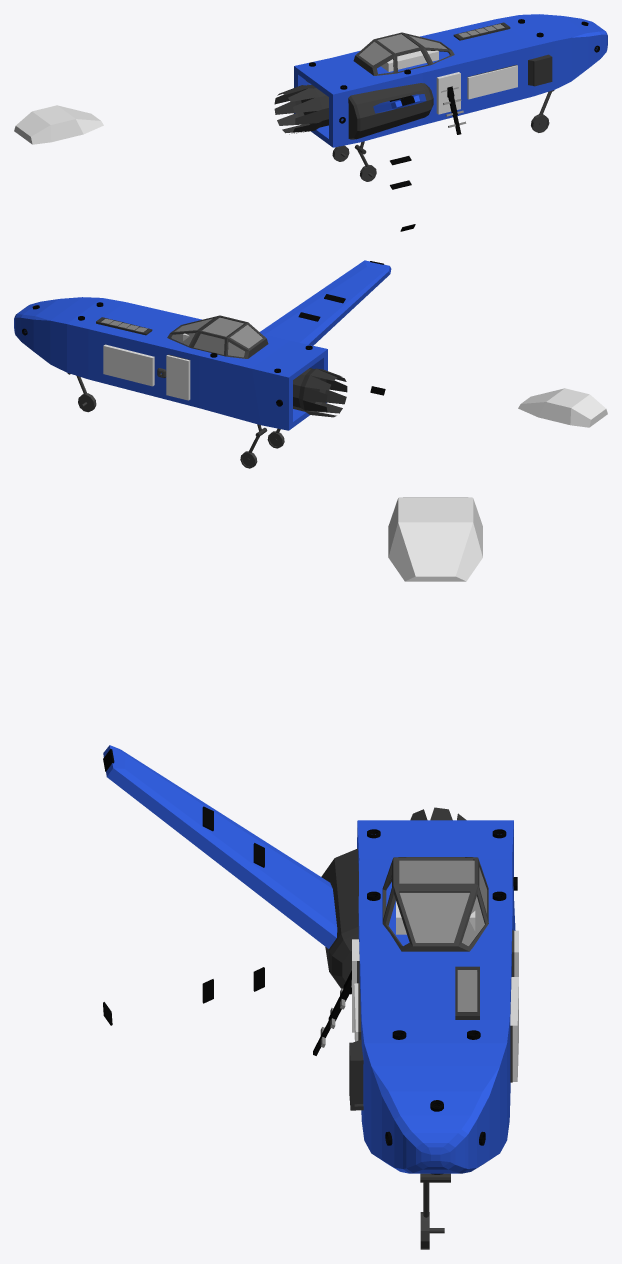
The model's file is FighterGen7_blue_closed.glb.
3 renders of one model, top to bottom at view 1: azimuth 30°, elevation 25°; view 2: azimuth 150°, elevation 25°; view 3: azimuth 270°, elevation 25°, orthographic. The views are drawn at different scales.
Visible parts, largest first — view 1: Body, Cylinder, Cube.100, Cylinder.002, Cube.099, Cube.021, Cube.080, Cube.043, Cube.090, Cube.104, Cube.106, Cube.003; view 2: Body, Cube.003, Cube.100, Cylinder.002, Cube.022, Cube.099, Cube.072, Cube.104, Cube.105, Cube.106; view 3: Body, Cube.003, Cube.100, Cube.099, Cylinder, Cube.102, Cube.104, Cube.043.
Boxes of the visible parts, bbox=[...] form: Body: bbox=[294, 14, 607, 147]; Cylinder: bbox=[348, 83, 433, 139]; Cube.100: bbox=[14, 105, 103, 144]; Cylinder.002: bbox=[274, 84, 328, 134]; Cube.099: bbox=[353, 32, 454, 75]; Cube.021: bbox=[467, 65, 517, 99]; Cube.080: bbox=[436, 72, 460, 114]; Cube.043: bbox=[528, 54, 552, 86]; Cube.090: bbox=[381, 50, 438, 71]; Cube.104: bbox=[377, 34, 418, 53]; Cube.106: bbox=[359, 41, 391, 65]; Cube.003: bbox=[373, 94, 426, 113]; Body: bbox=[14, 297, 327, 430]; Cube.003: bbox=[260, 260, 391, 345]; Cube.100: bbox=[518, 388, 607, 427]; Cylinder.002: bbox=[293, 368, 347, 417]; Cube.022: bbox=[103, 344, 154, 386]; Cube.099: bbox=[167, 315, 268, 358]; Cube.072: bbox=[166, 355, 190, 400]; Cube.104: bbox=[202, 317, 243, 336]; Cube.105: bbox=[193, 333, 224, 354]; Cube.106: bbox=[230, 324, 262, 348]; Body: bbox=[357, 820, 515, 1173]; Cube.003: bbox=[103, 745, 337, 948]; Cube.100: bbox=[388, 497, 482, 581]; Cube.099: bbox=[382, 857, 488, 951]; Cylinder: bbox=[321, 848, 358, 994]; Cube.102: bbox=[399, 892, 469, 942]; Cube.104: bbox=[399, 860, 474, 883]; Cube.043: bbox=[349, 1039, 363, 1110].
Bounding box in the file's own units: 33.95 × 7.98 × 10.52.
